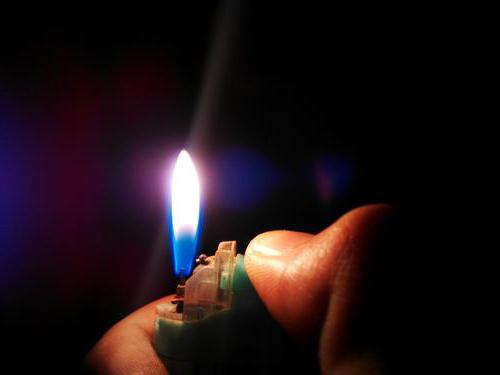fire: (160, 140, 215, 301)
